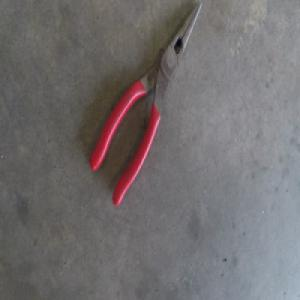Pliers: (89, 1, 201, 202)
